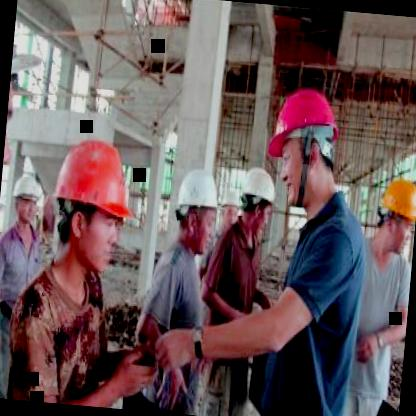helmet: (52, 133, 136, 270), (267, 81, 347, 213), (168, 160, 224, 254), (368, 175, 416, 258), (236, 166, 278, 239), (9, 169, 43, 230), (219, 186, 243, 240)
